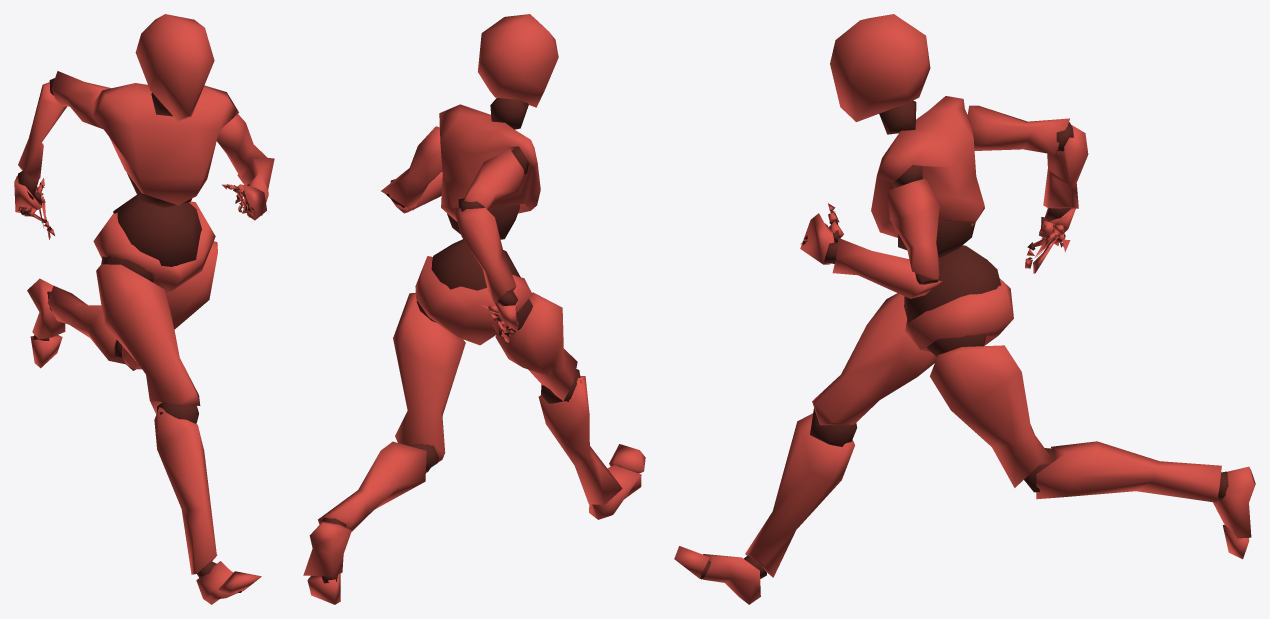
3 renders of one model, left to right at view 1: azimuth 30°, elevation 25°; view 2: azimuth 150°, elevation 25°; view 3: azimuth 270°, elevation 25°, orthographic. The views are drawn at different scales.
Visible parts, largest first — view 1: Beta_Surface.001; view 2: Beta_Surface.001; view 3: Beta_Surface.001.
Boxes of the visible parts, x1,y1,x2,y2 form: Beta_Surface.001: (14, 14, 274, 604); Beta_Surface.001: (303, 14, 645, 604); Beta_Surface.001: (674, 14, 1255, 604).
Bounding box in the file's own units: 5.27 × 13.98 × 12.37.
